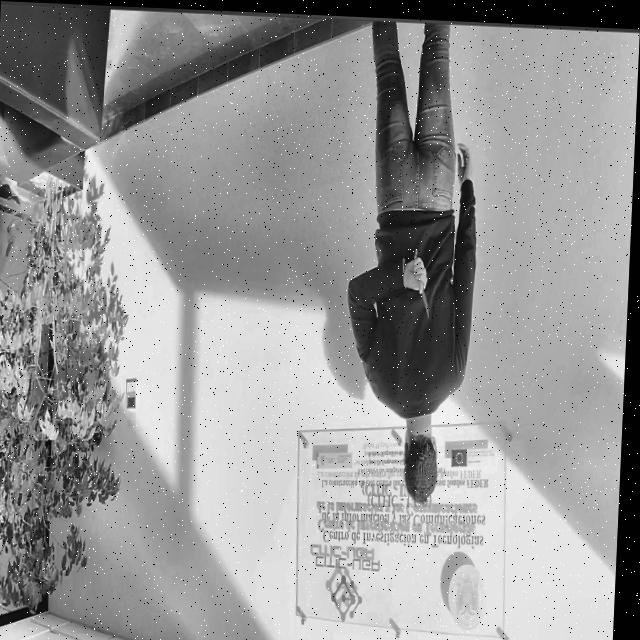knife: (422, 283, 435, 316)
